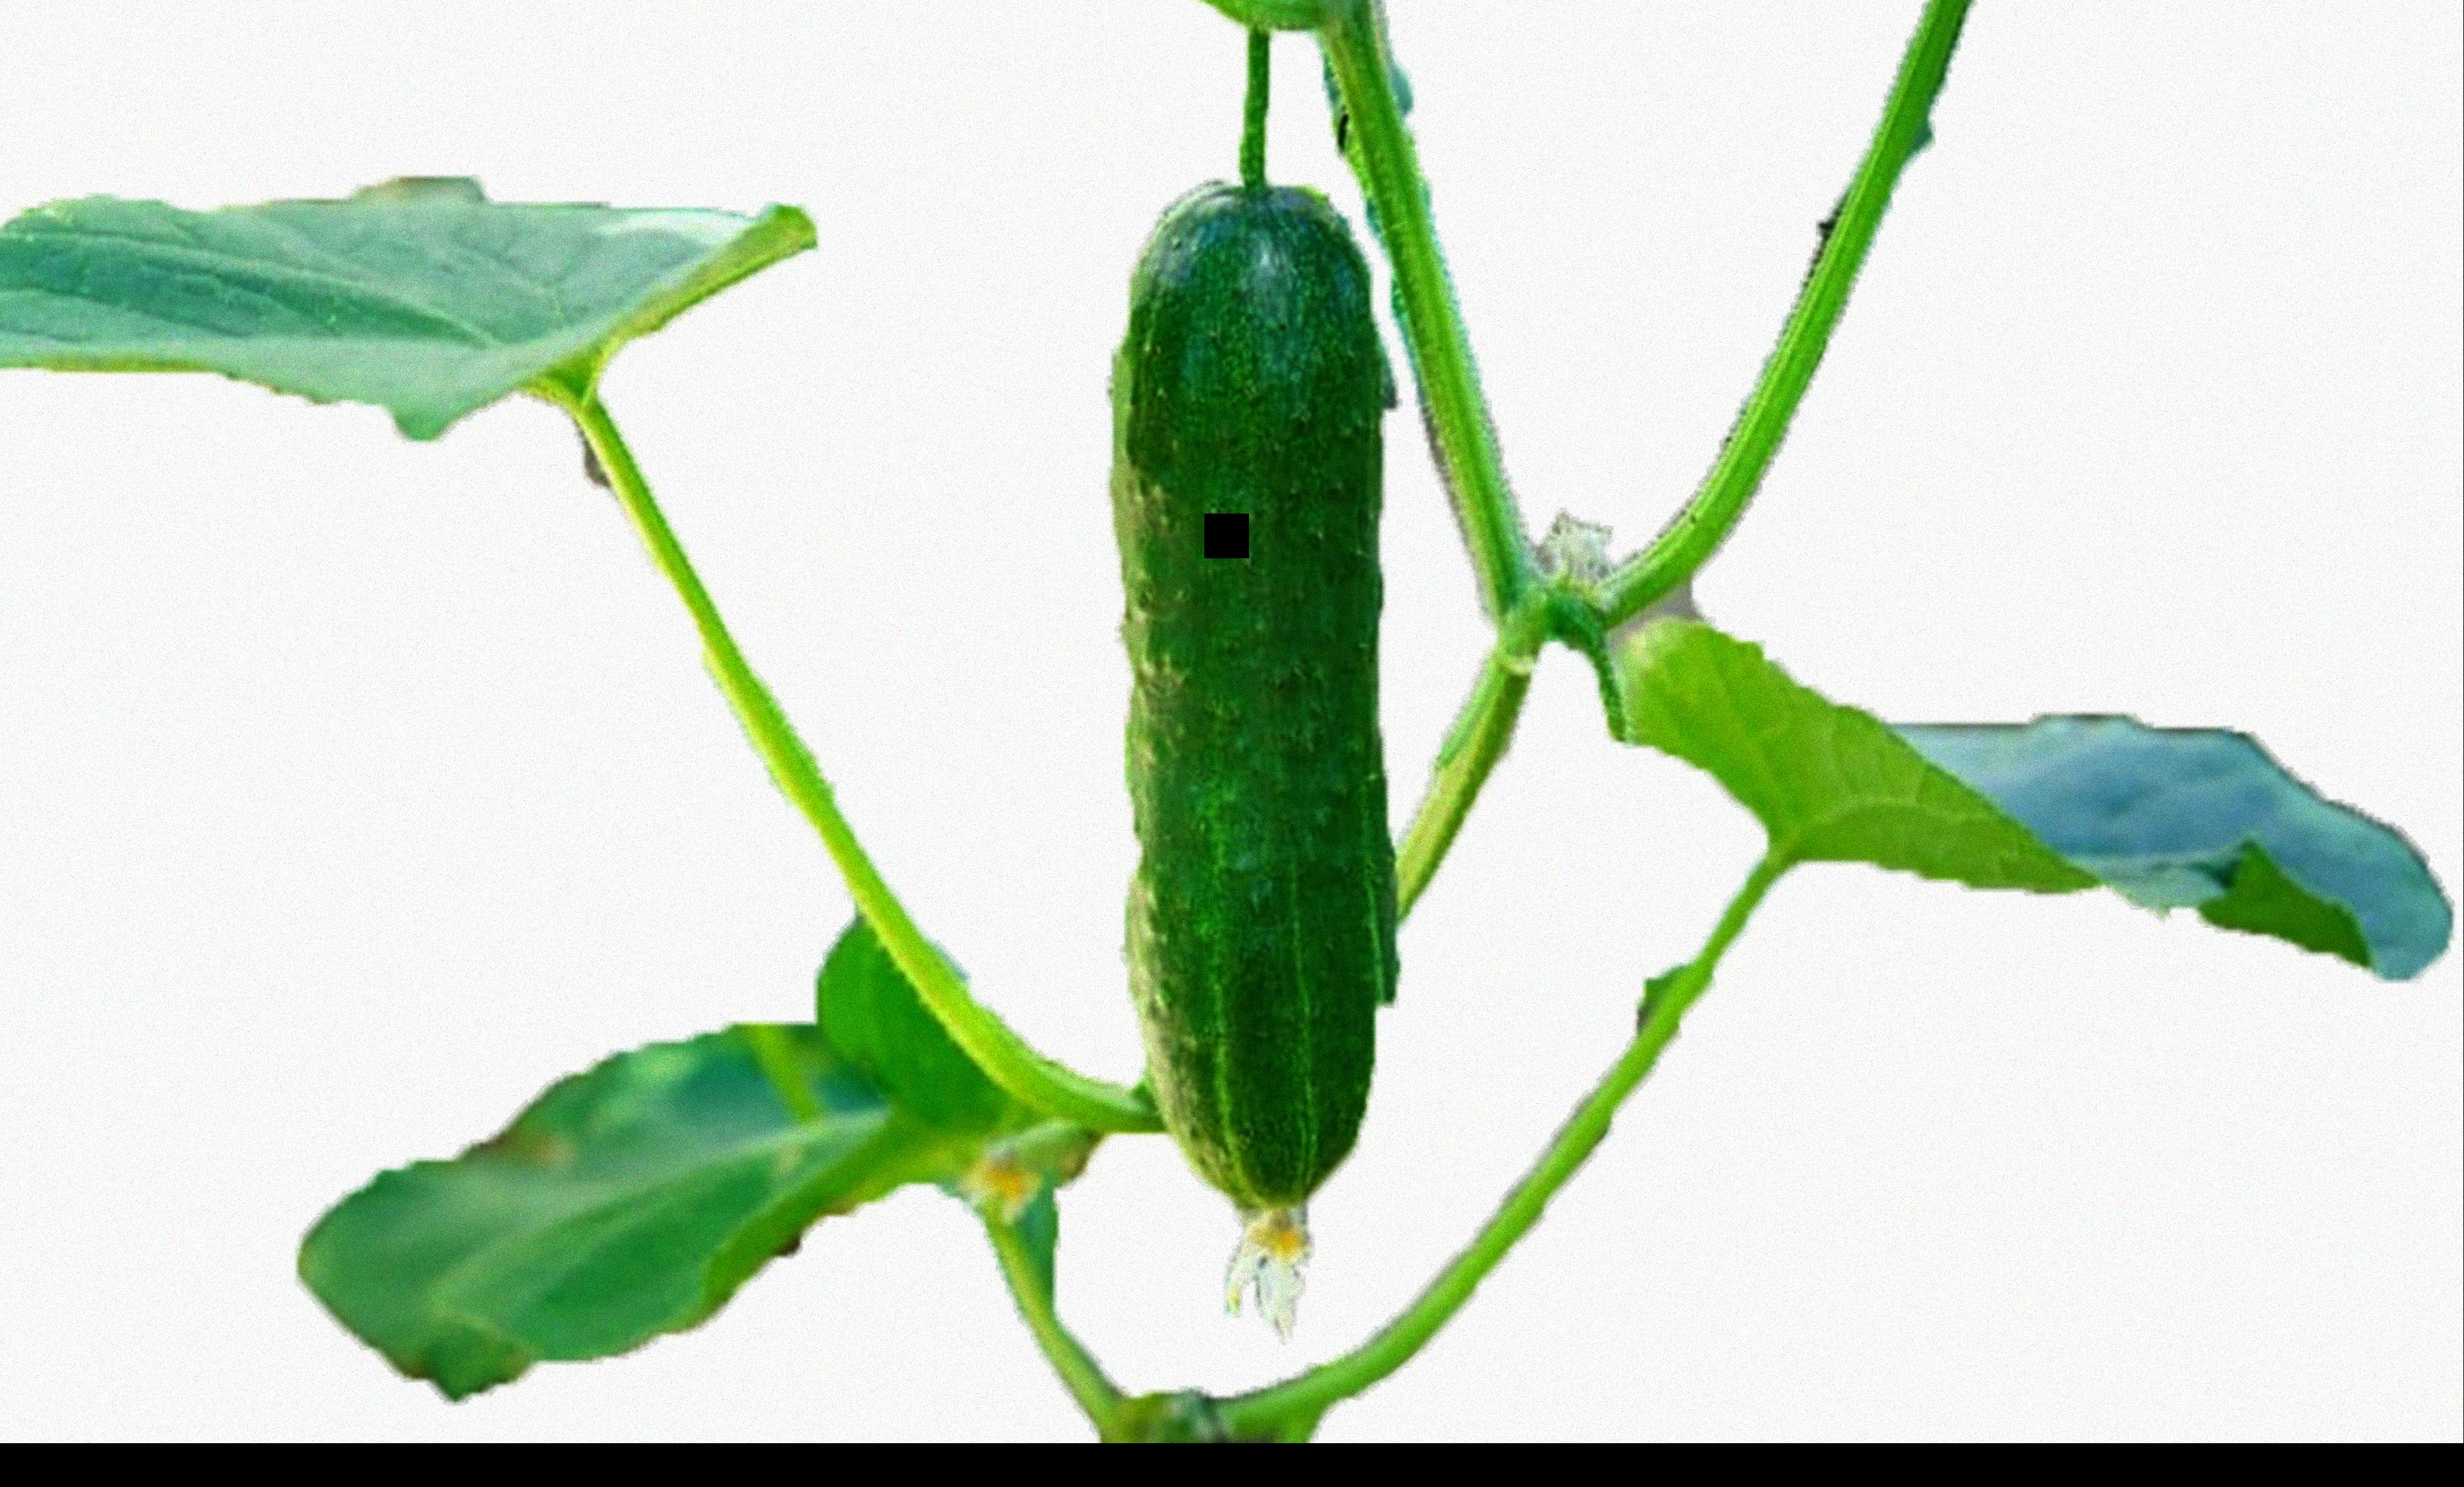corn_plant: (9, 174, 1100, 1432)
cucumber: (1095, 111, 1410, 1241)
cucumber_plant: (1434, 628, 2460, 1378)
